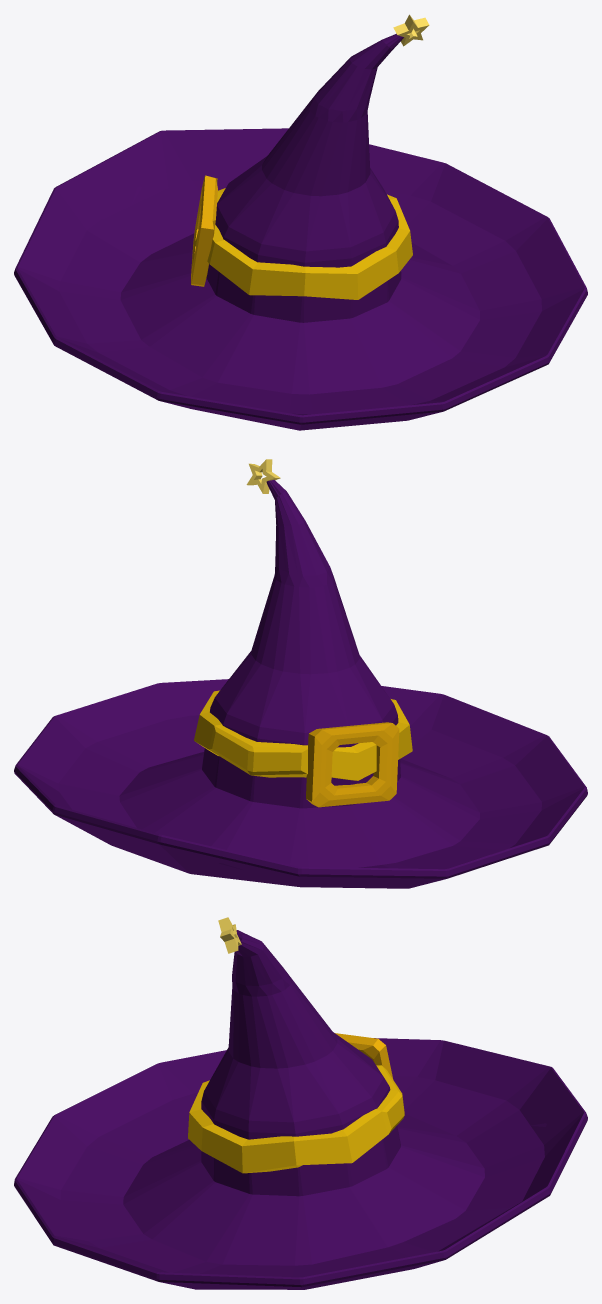
The model's file is WitchHatDone.glb.
The picture shows the model from 3 angles, top to bottom: view 1: azimuth 30°, elevation 25°; view 2: azimuth 150°, elevation 25°; view 3: azimuth 270°, elevation 25°; orthographic projection.
Parts seen in each view (by area): view 1: Cone, Circle, Cube, Cylinder; view 2: Cone, Circle, Cube, Cylinder; view 3: Cone, Circle, Cube, Cylinder.
Part boxes in pixels (box(x1,y1,x2,y2)): Cone: box(14, 33, 587, 430); Circle: box(195, 188, 412, 299); Cube: box(191, 175, 217, 286); Cylinder: box(393, 14, 429, 46); Cone: box(14, 479, 587, 888); Circle: box(194, 690, 412, 780); Cube: box(306, 722, 399, 807); Cylinder: box(246, 459, 280, 493); Cone: box(14, 930, 587, 1289); Circle: box(188, 1065, 404, 1173); Cube: box(335, 1033, 393, 1079); Cylinder: box(218, 917, 241, 953).
Bounding box in the file's own units: 3.61 × 2.35 × 3.59.
